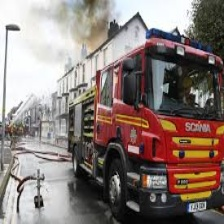smoke: (39, 1, 111, 59)
